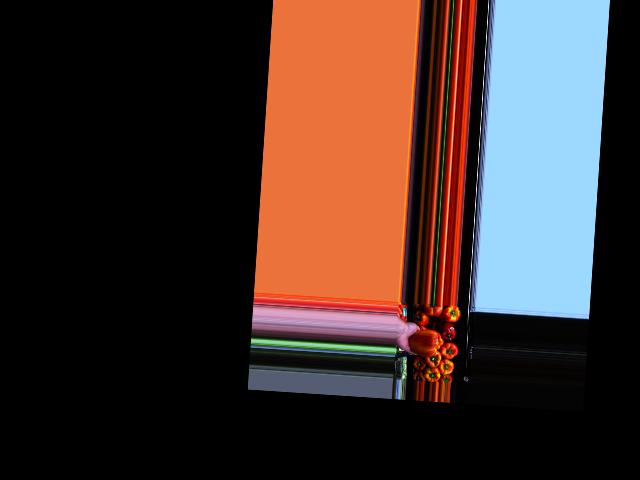bell_pepper: (415, 308, 430, 327)
